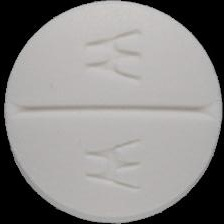68151-2472: (0, 0, 224, 224)
